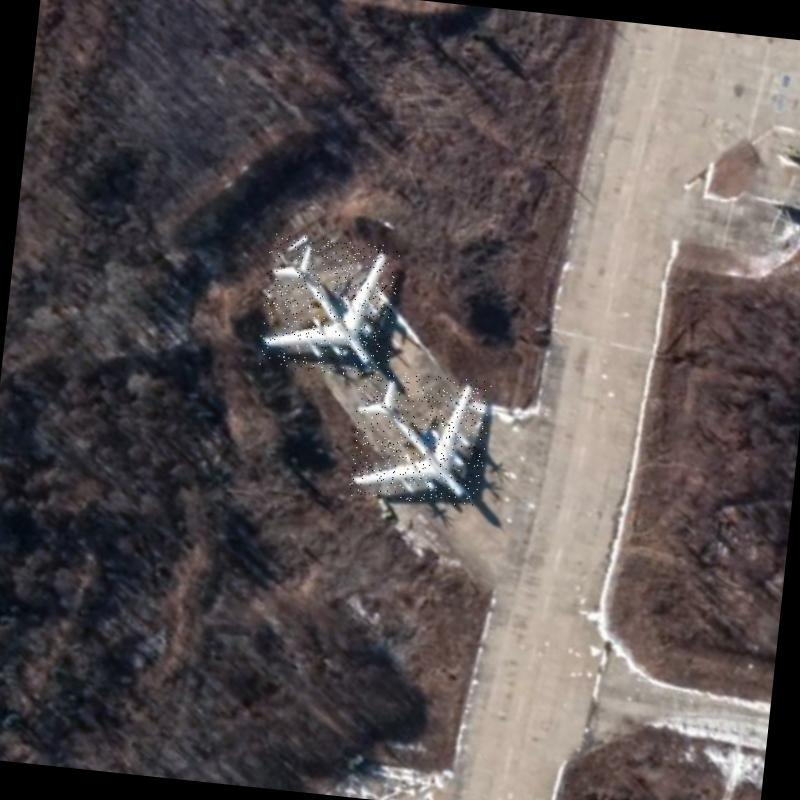A17: (257, 233, 400, 378), (347, 368, 492, 508)
